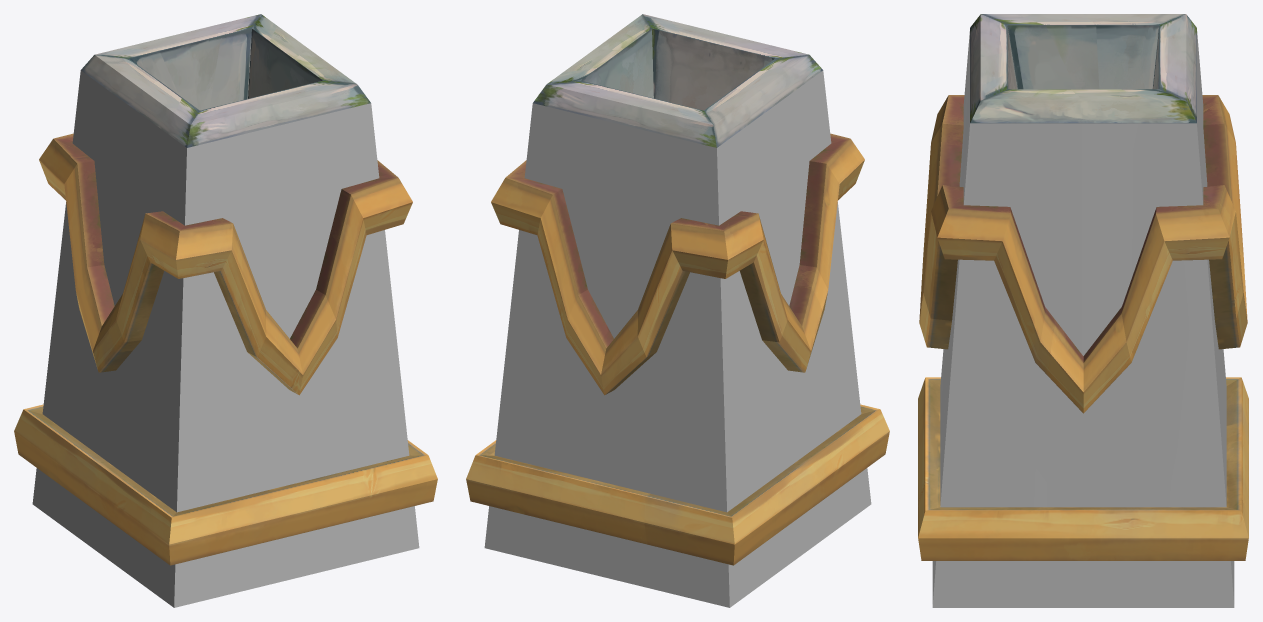
The model's file is geo_check_point.fbx.
3 renders of one model, left to right at view 1: azimuth 30°, elevation 25°; view 2: azimuth 150°, elevation 25°; view 3: azimuth 270°, elevation 25°, orthographic. The views are drawn at different scales.
Parts seen in each view (by area): view 1: geo_check_point; view 2: geo_check_point; view 3: geo_check_point.
Boxes of the visible parts, x1,y1,x2,y2 form: geo_check_point: [14, 14, 437, 607]; geo_check_point: [466, 14, 889, 607]; geo_check_point: [918, 14, 1248, 607].
Size of the model in its own units: 1.08 by 1.75 by 1.08.
